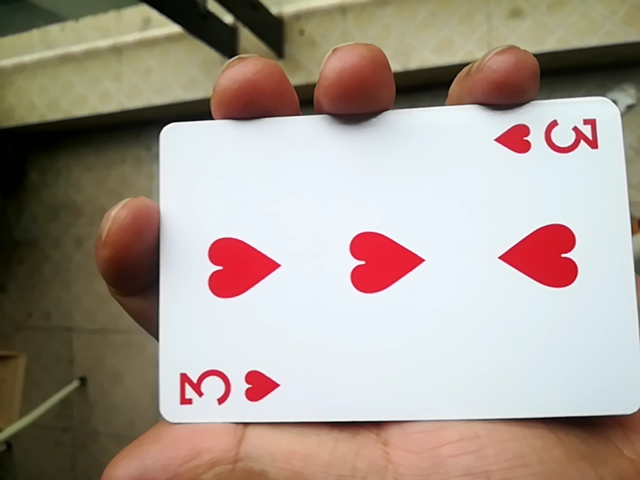hx 3: (143, 112, 638, 446)
